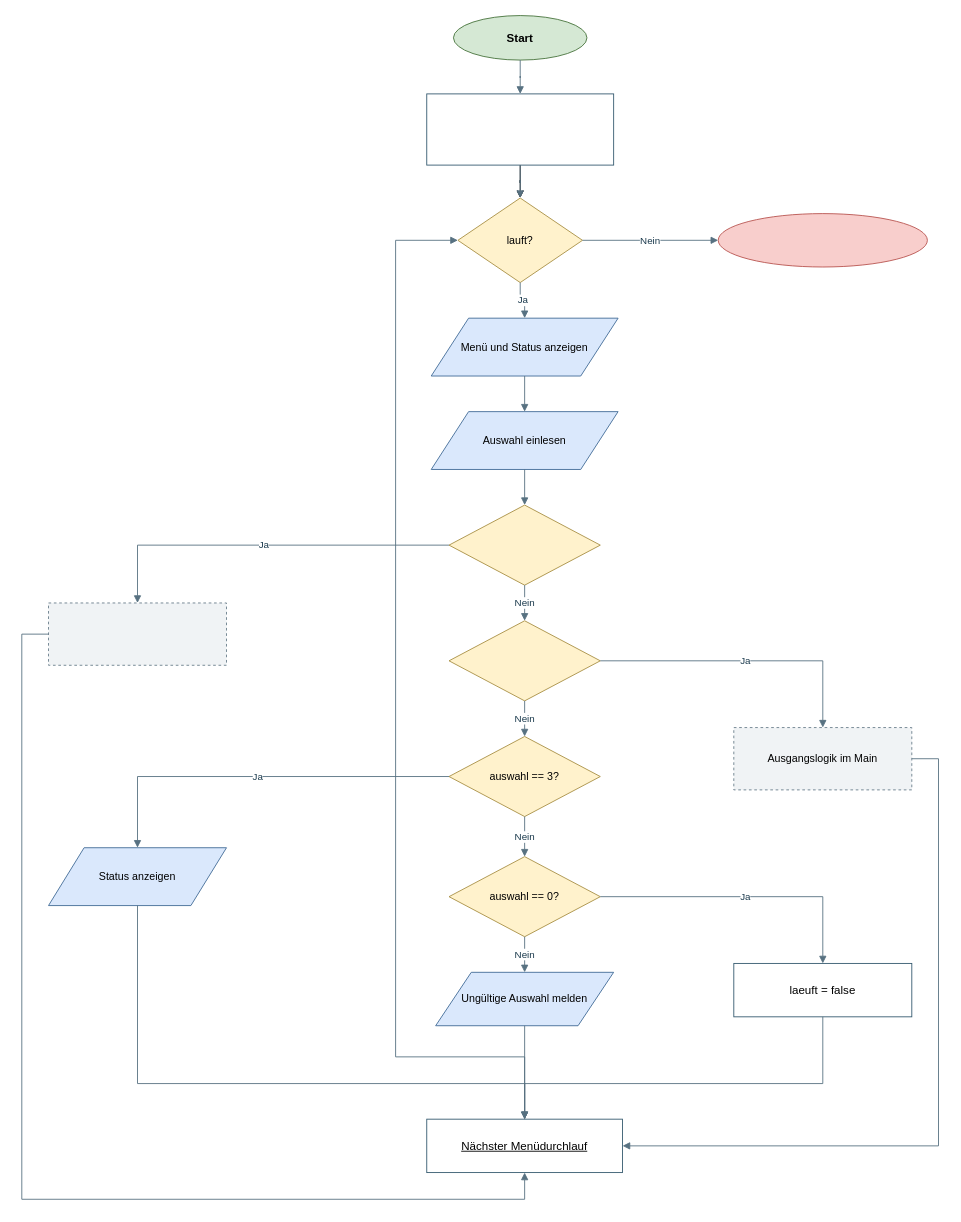
Image size: 961x1222. Some labels were removed from this diagram. The shapes that lost their labels are listed below. From the top down, each one's box as (x1, y1, x2, y2) in pixels, then its label:
(426, 93, 614, 165): kapazitaet = 12, anwesend = 0, laeuft = true
(717, 213, 927, 267): Endmeldung / Programmende
(448, 504, 600, 585): auswahl == 1?
(48, 602, 227, 665): Einlasslogik im Main
(448, 620, 600, 701): auswahl == 2?
